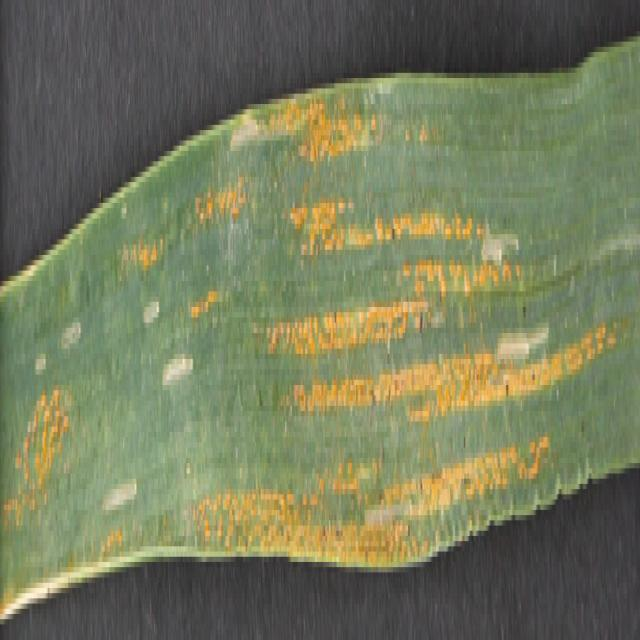leaf rust: (1, 99, 620, 619)
